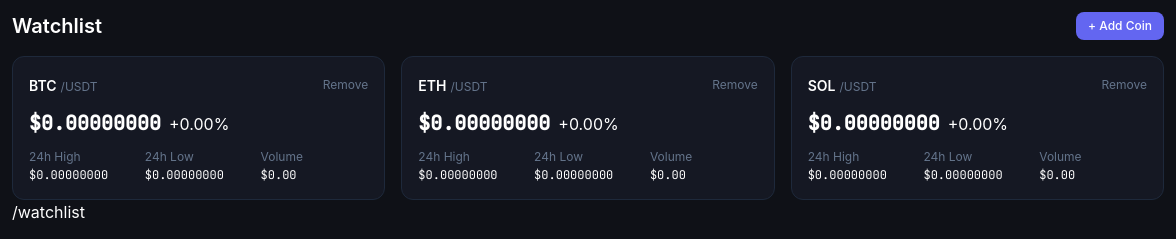
Test: Watchlist › removes a coin without opening it
This screenshot has width=1176, height=239.
Click the button "Remove" in the row of "ETH": x=735, y=85 [712, 77, 758, 93]
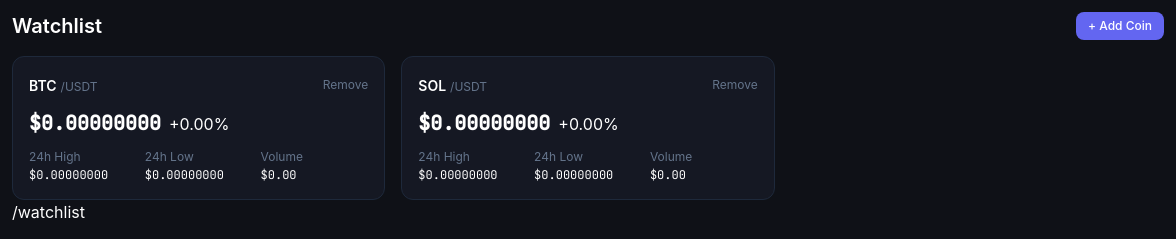
Check: the text with test id "current-path" reads "/watchlist", box [12, 202, 85, 222]
Check: the text "ETH" is gone
